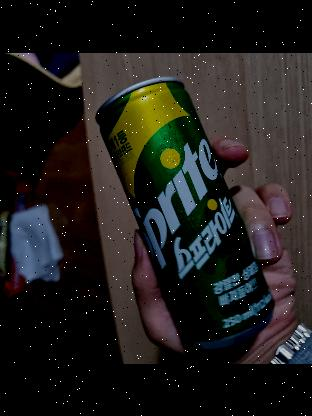Can: (91, 70, 280, 336)
